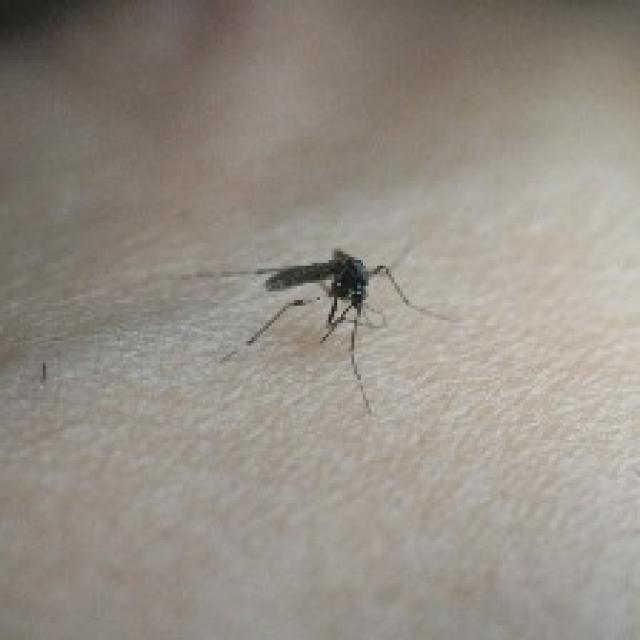aedes: (197, 240, 457, 414)
